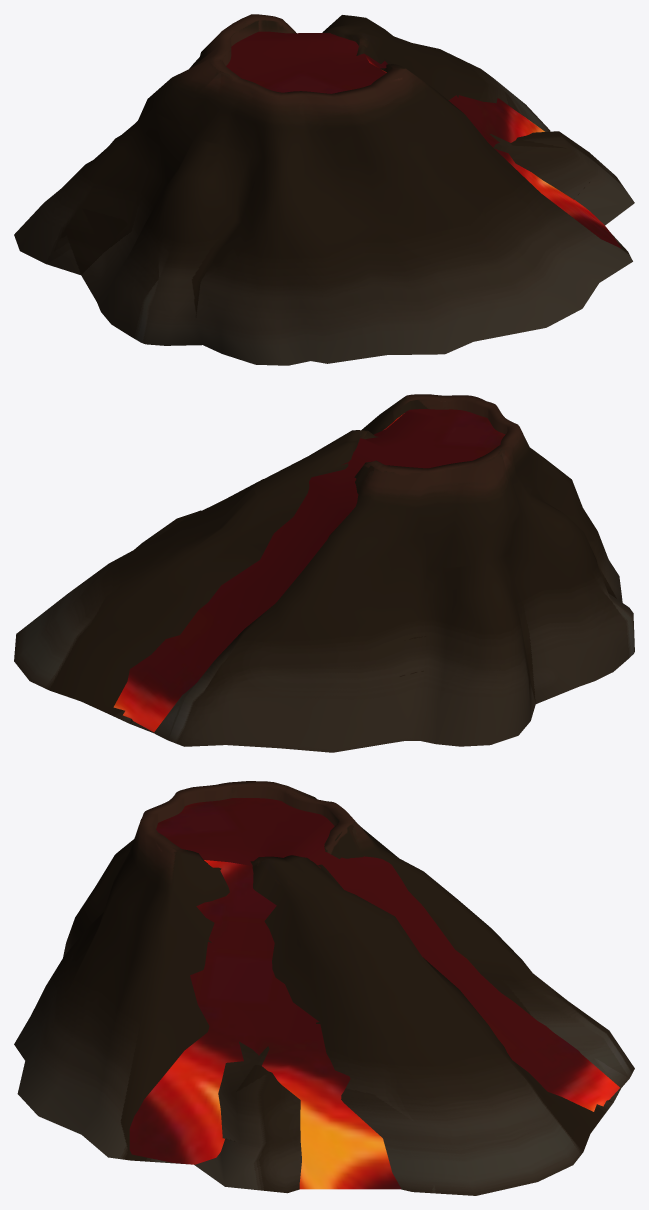
Rendered from volcano.fbx.
The picture shows the model from 3 angles, top to bottom: view 1: azimuth 30°, elevation 25°; view 2: azimuth 150°, elevation 25°; view 3: azimuth 270°, elevation 25°; orthographic projection. The views are drawn at different scales.
Visible parts, largest first — view 1: Circle.005; view 2: Circle.005; view 3: Circle.005.
Part boxes in pixels (x1=…): Circle.005: x1=14, y1=14, x2=634, y2=365; Circle.005: x1=14, y1=394, x2=634, y2=752; Circle.005: x1=14, y1=781, x2=634, y2=1195.
Size of the model in its own units: 143 by 55.9 by 147.
